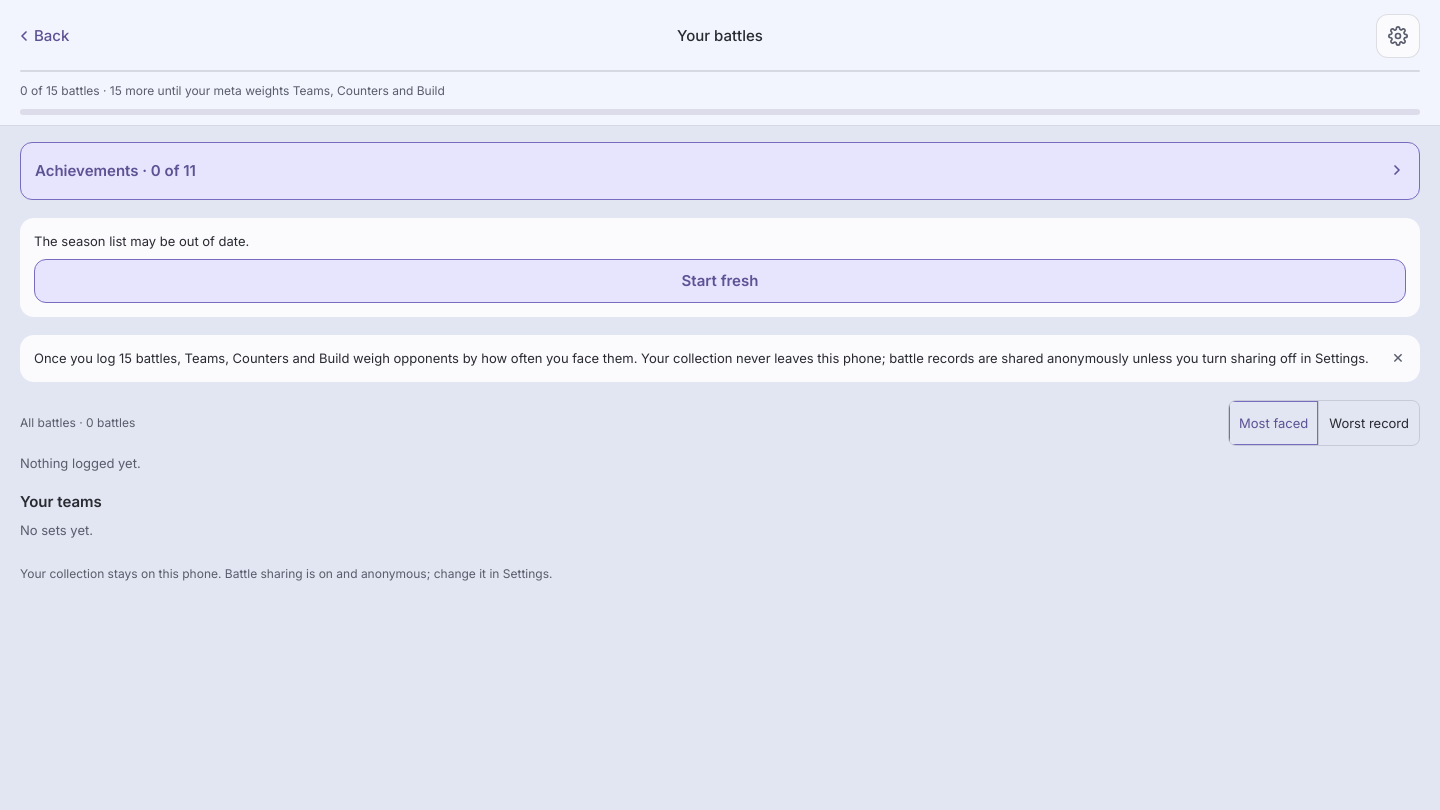
it: Your battles screen › explains the log once, and the explainer can be dismissed
Expected: the text "Once you log 15 battles, Teams, Counters and Build weigh opponents by how often you face them. Your collection never lea" is shown, [34,350,1369,366]
Click the button named "Dismiss".
click(1398, 357)  # box [1376,335,1420,379]
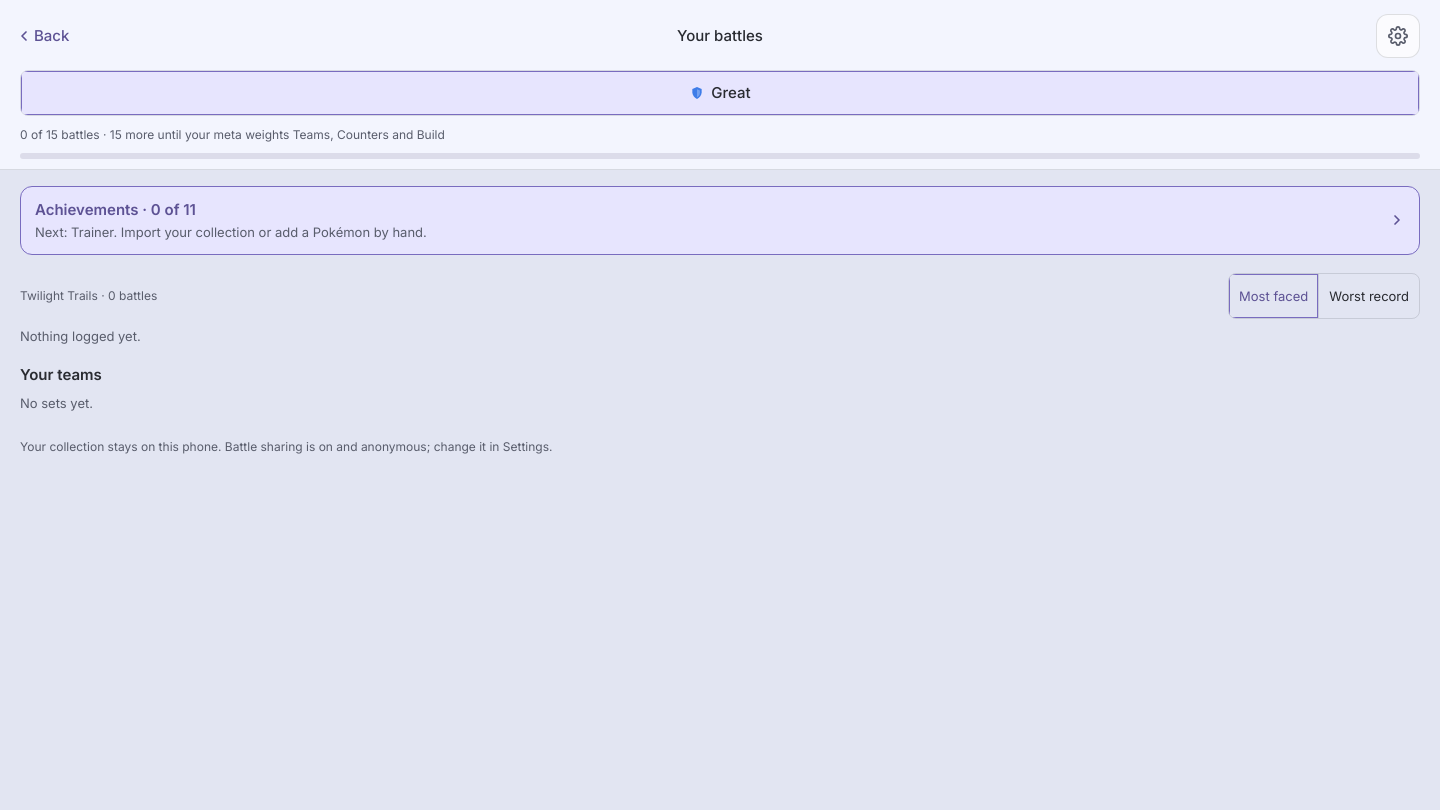
Now the text "Once you log 15 battles, Teams, Counters and Build weigh opponents by how often you face them. Your collection never lea" is gone
